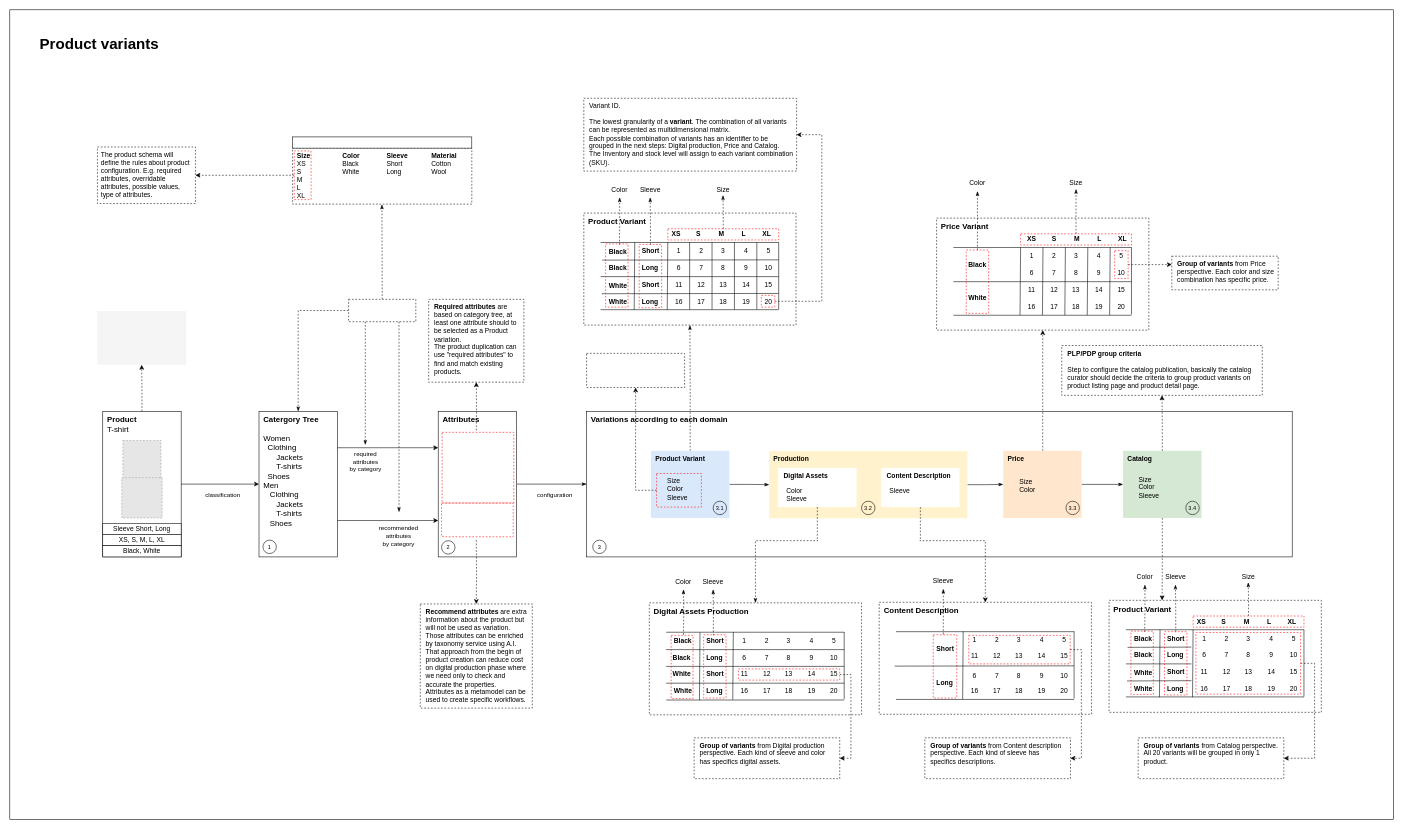
This 1403x829 diagram has some shape labels left out. Grey dashed boxes stand in for pictures. The shapes that lost their labels are listed below. From the top down, each one's centre as x and y in pixels, then its label:
(382,142): Schema
(382,310): Schema for each category
(141,338): 1 = product 20 = variants (2 x 2 x 5) 2 - sleeves 2 - colors 5 - sizes
(635,370): The variations are from required attributes of Product.
(478,467): Required Name Size Color Sleeve HSCode
(477,520): Recommended Material ...
